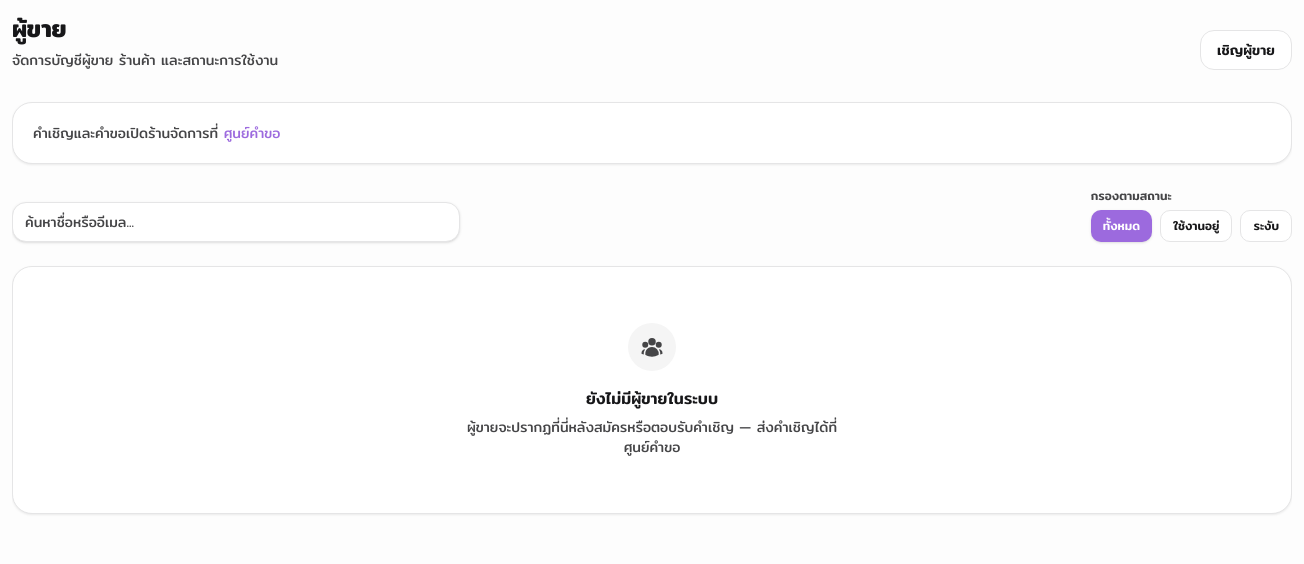
AdminVendorsPage › shows filter empty state with clear action
The image size is (1304, 564).
Type "nobody" into the search field named "ค้นหาผู้ขาย".
click(236, 222); type("nobody")  # box [12, 202, 460, 242]
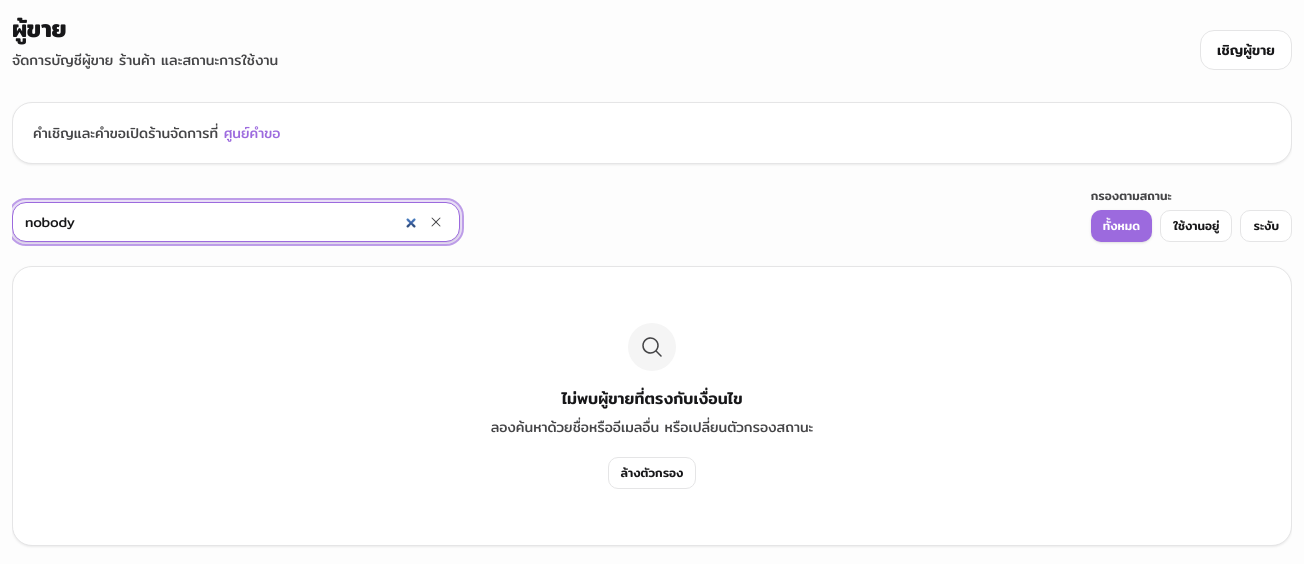
Expected: the text "ไม่พบผู้ขายที่ตรงกับเงื่อนไข" is shown, [561, 387, 743, 411]
Expected: the button named "ล้างช่องค้นหา" is shown, [420, 206, 452, 238]
Expected: the button "ล้างตัวกรอง" is shown, [608, 457, 696, 489]
